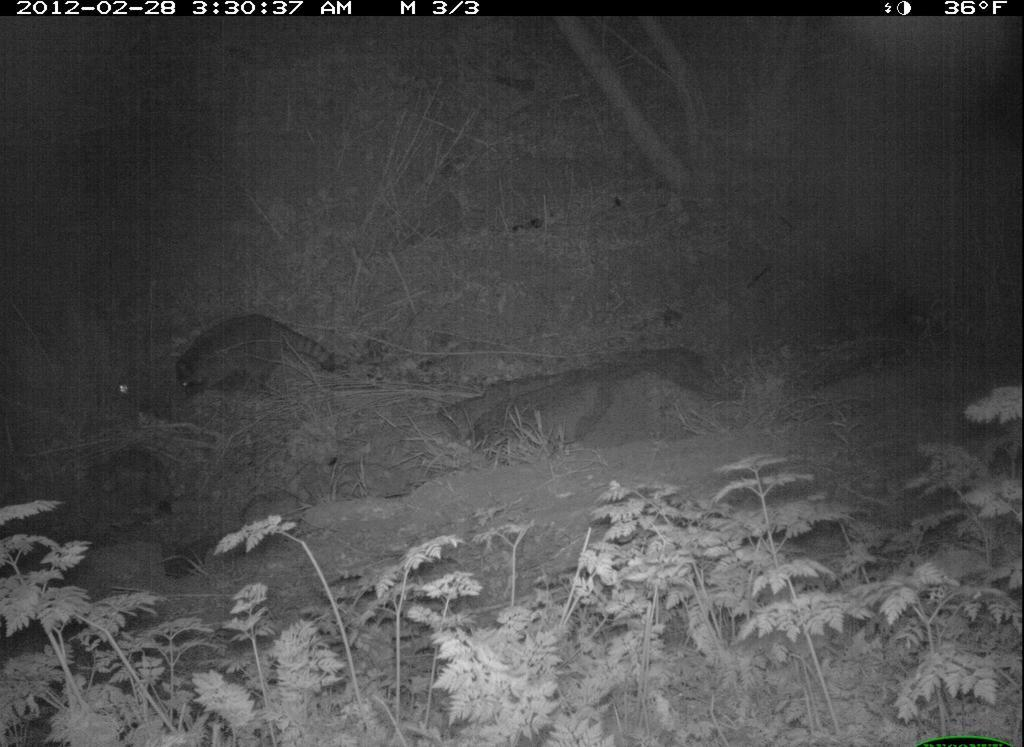raccoon: (152, 304, 351, 432)
